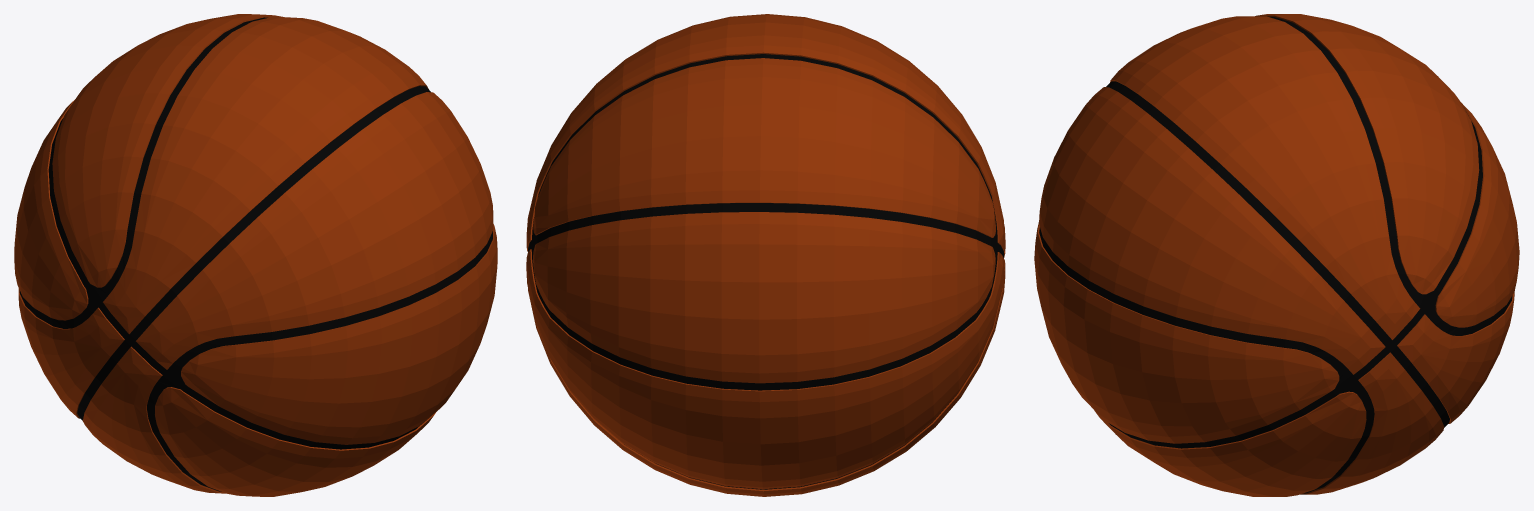
3 views of the same model, side by side, from view 1: azimuth 30°, elevation 25°; view 2: azimuth 150°, elevation 25°; view 3: azimuth 270°, elevation 25° (orthographic).
Visible parts, largest first — view 1: volleyball ball; view 2: volleyball ball; view 3: volleyball ball.
Boxes of the visible parts, bbox=[...] form: volleyball ball: bbox=[14, 14, 497, 496]; volleyball ball: bbox=[526, 14, 1005, 496]; volleyball ball: bbox=[1034, 14, 1519, 496].
Size of the model in its own units: 6.54 by 6.54 by 6.53.
